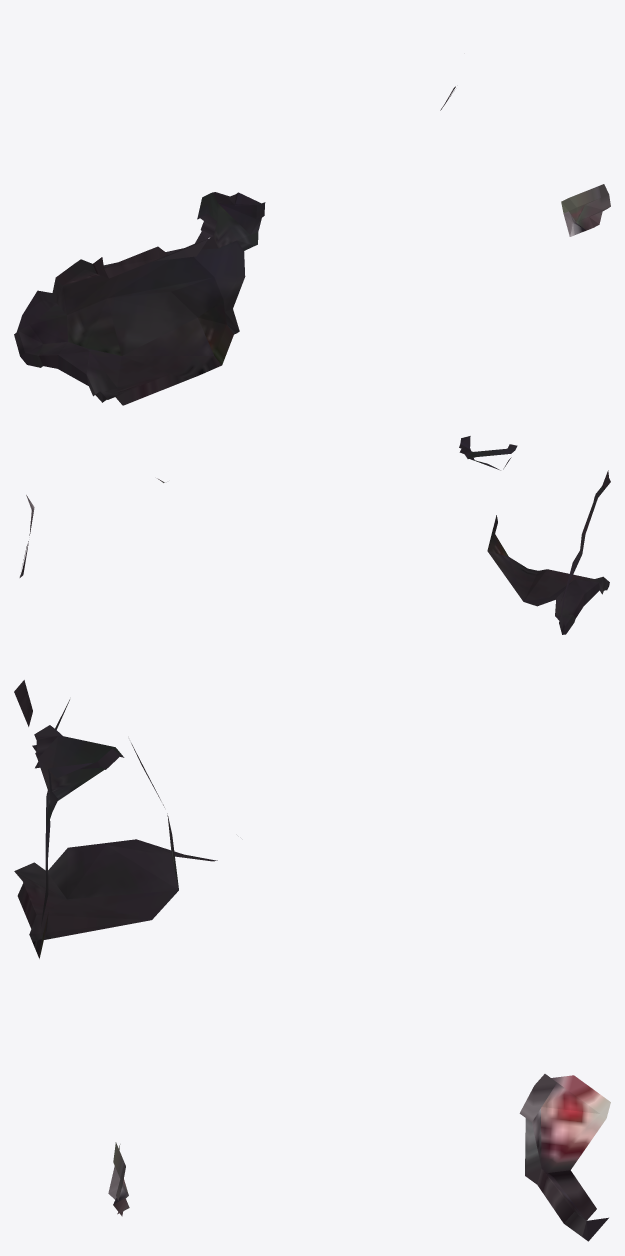
The picture shows the model from 3 angles, top to bottom: view 1: azimuth 30°, elevation 25°; view 2: azimuth 150°, elevation 25°; view 3: azimuth 270°, elevation 25°; orthographic projection. The views are drawn at different scales.
Parts seen in each view (by area): view 1: Mesh_0; view 2: Mesh_0; view 3: Mesh_0.
Boxes of the visible parts, <box> form: Mesh_0: <box>14,86,610,405</box>; Mesh_0: <box>19,436,610,634</box>; Mesh_0: <box>14,680,610,1241</box>.
Bounding box in the file's own units: 28.69 × 8.13 × 18.29.
1 material, 1 textured.
